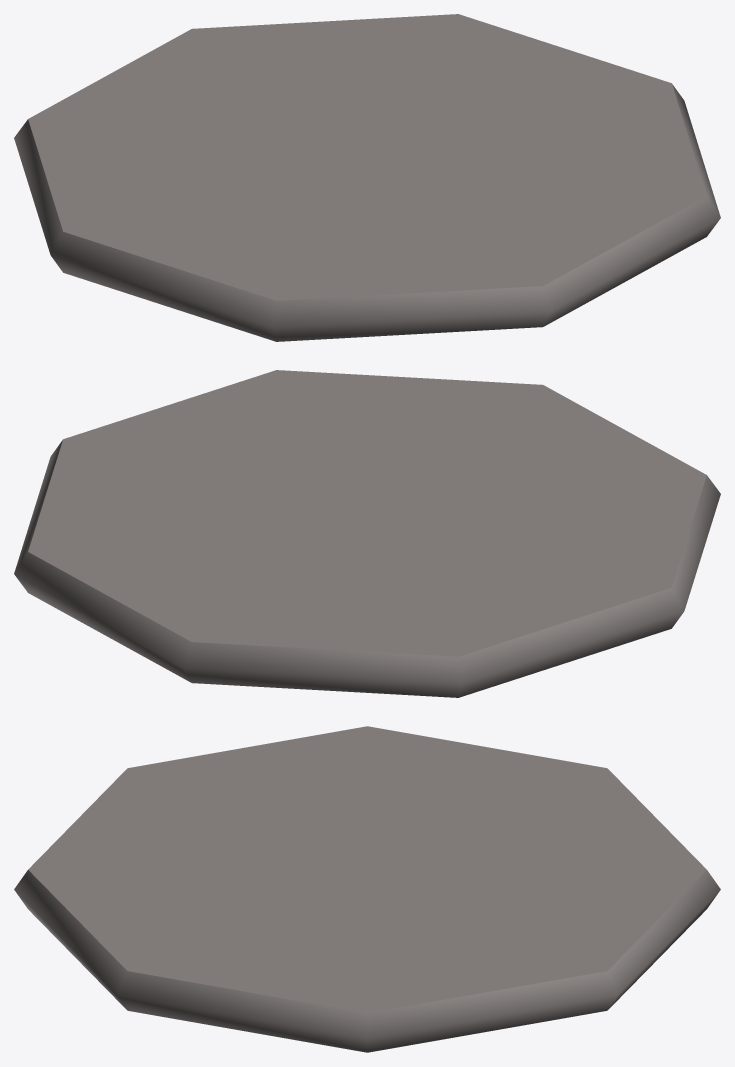
File: Coin_01_Silver.fbx
The picture shows the model from 3 angles, top to bottom: view 1: azimuth 30°, elevation 25°; view 2: azimuth 150°, elevation 25°; view 3: azimuth 270°, elevation 25°; orthographic projection. The views are drawn at different scales.
Visible parts, largest first — view 1: Coin_01_Silver; view 2: Coin_01_Silver; view 3: Coin_01_Silver.
Boxes of the visible parts, x1=… form: Coin_01_Silver: x1=14, y1=14, x2=720, y2=341; Coin_01_Silver: x1=14, y1=370, x2=720, y2=697; Coin_01_Silver: x1=14, y1=726, x2=720, y2=1052.
Bounding box in the file's own units: 0.0486 × 0.00301 × 0.0486.
